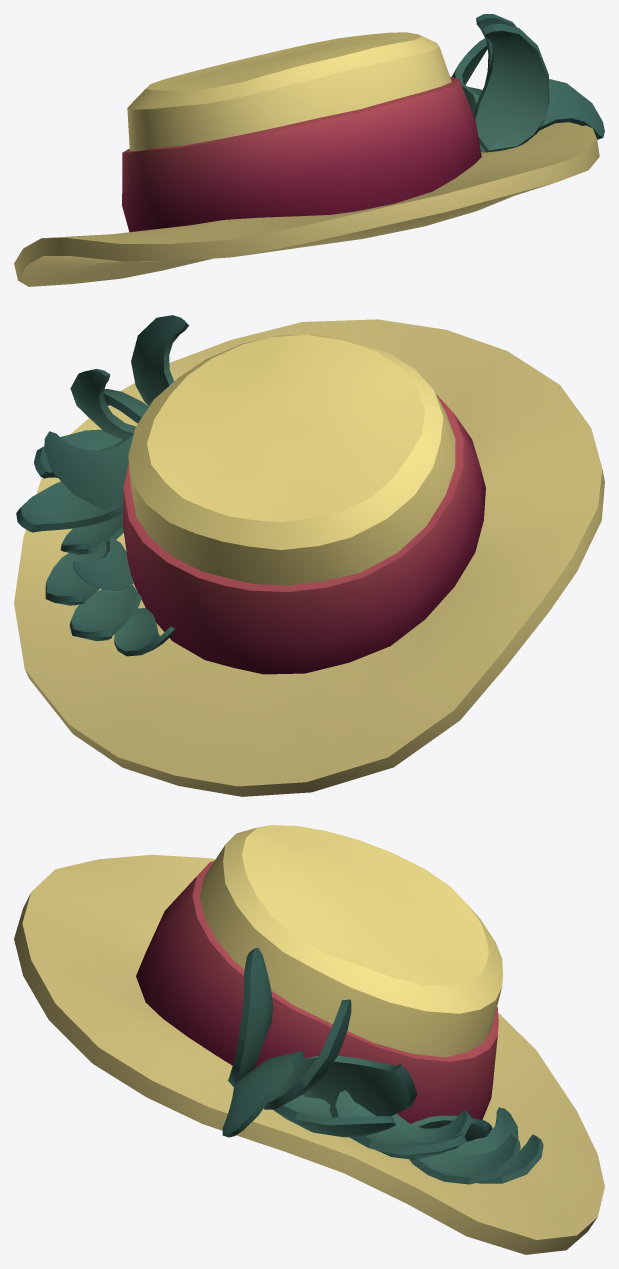
The model's file is SM_Hat.fbx.
3 views of the same model, one above another, from view 1: azimuth 30°, elevation 25°; view 2: azimuth 150°, elevation 25°; view 3: azimuth 270°, elevation 25° (orthographic). The views are drawn at different scales.
Parts seen in each view (by area): view 1: SM_Hat; view 2: SM_Hat; view 3: SM_Hat.
Boxes of the visible parts, x1,y1,x2,y2 form: SM_Hat: (14,14,604,286); SM_Hat: (14,315,604,796); SM_Hat: (14,825,604,1254).
Size of the model in its own units: 129 by 77.81 by 120.
